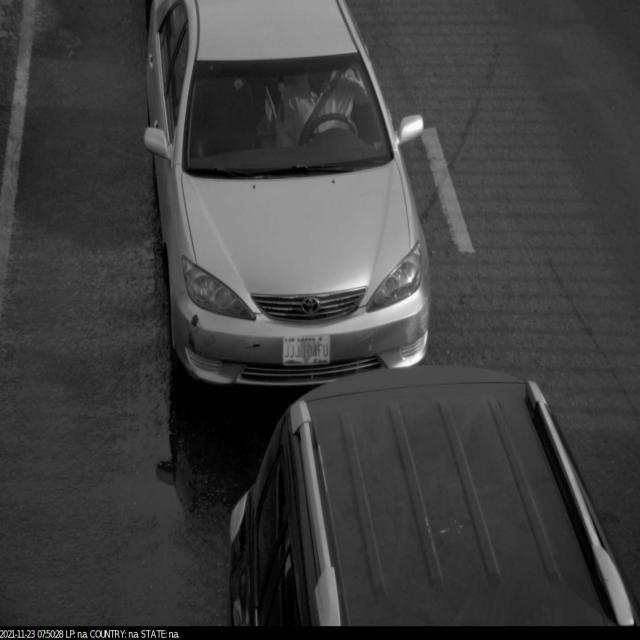windshield: (169, 45, 395, 184)
